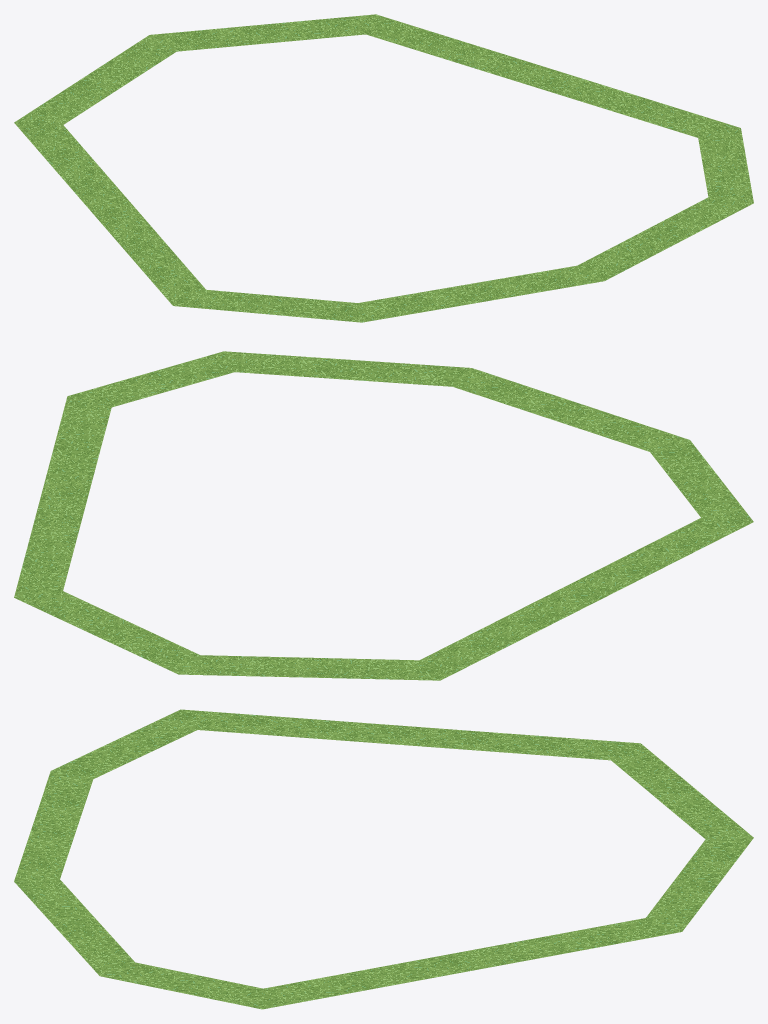
Rendered from kd_connection_world-inner_surface_4_3.glb.
3 views of the same model, one above another, from view 1: azimuth 30°, elevation 25°; view 2: azimuth 150°, elevation 25°; view 3: azimuth 270°, elevation 25° (orthographic). The views are drawn at different scales.
Parts seen in each view (by area): view 1: kd_connection_world-inner_surface_4_3; view 2: kd_connection_world-inner_surface_4_3; view 3: kd_connection_world-inner_surface_4_3.
Boxes of the visible parts, bbox=[...] form: kd_connection_world-inner_surface_4_3: bbox=[14, 14, 753, 322]; kd_connection_world-inner_surface_4_3: bbox=[14, 351, 753, 680]; kd_connection_world-inner_surface_4_3: bbox=[14, 709, 753, 1009].
Size of the model in its own units: 11.46 by 1.91e-06 by 11.95.
Materials: 1 (1 with a texture image).
